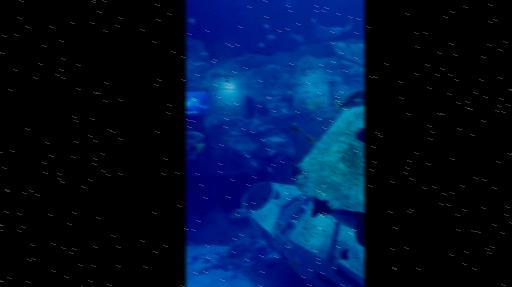Fish: (312, 197, 364, 246), (314, 19, 352, 40), (334, 89, 364, 112), (186, 97, 208, 110), (186, 131, 203, 142), (288, 123, 302, 134), (190, 141, 204, 152), (231, 209, 250, 217), (309, 100, 325, 109), (295, 162, 305, 175), (290, 33, 304, 42), (356, 128, 364, 141), (307, 134, 315, 144), (193, 61, 208, 66), (342, 248, 348, 259), (222, 136, 230, 142), (269, 149, 276, 155), (312, 84, 318, 91), (286, 90, 294, 95), (189, 18, 195, 24), (272, 130, 280, 134), (269, 34, 275, 39), (202, 53, 208, 58), (268, 167, 273, 172), (265, 24, 269, 28), (258, 44, 263, 47)
